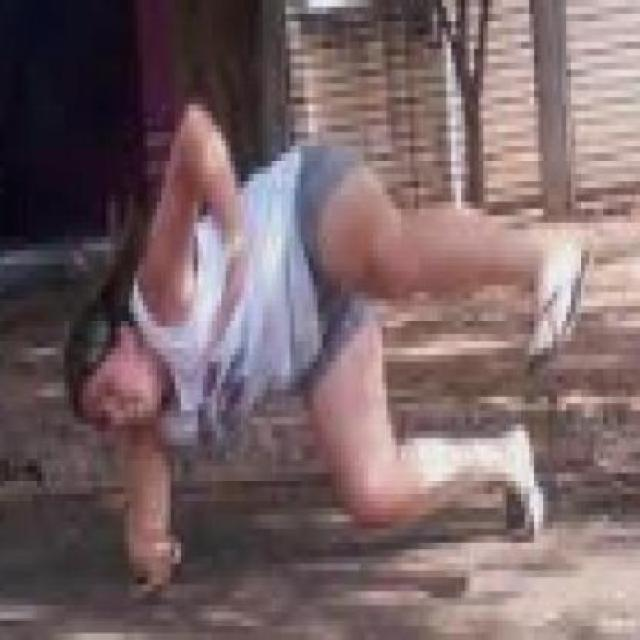fall: (67, 94, 596, 578)
